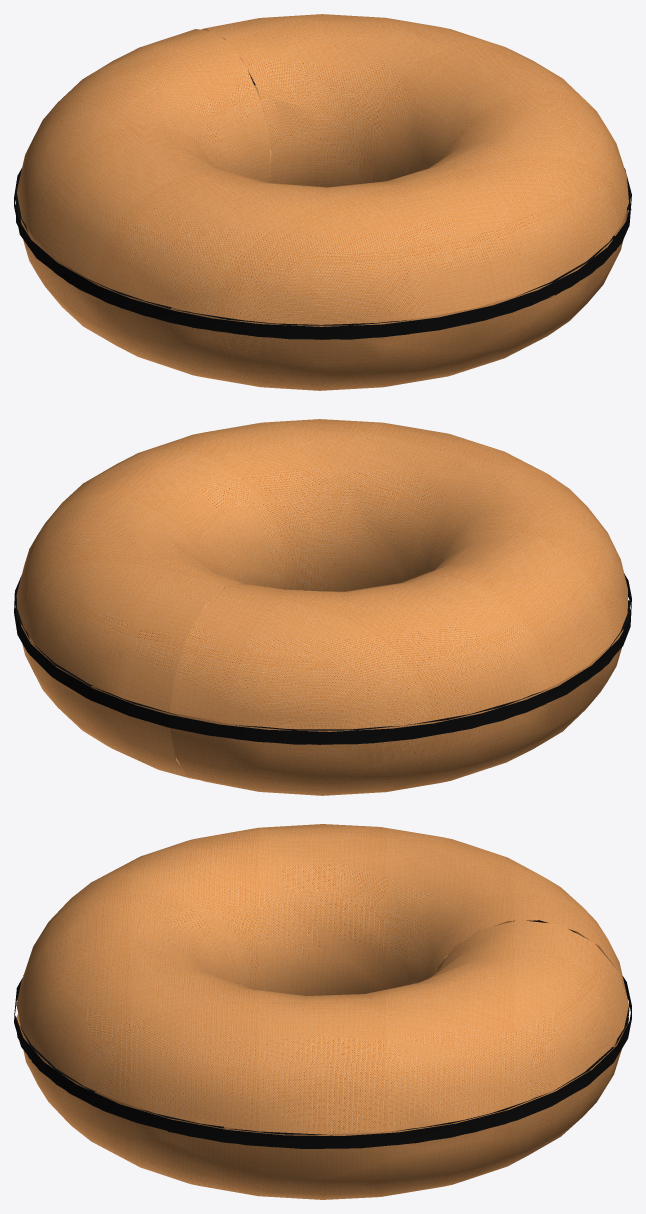
Rendered from TTQ1.obj.
3 renders of one model, top to bottom at view 1: azimuth 30°, elevation 25°; view 2: azimuth 150°, elevation 25°; view 3: azimuth 270°, elevation 25°, orthographic.
Visible parts, largest first — view 1: Cut_Extrud; view 2: Cut_Extrud; view 3: Cut_Extrud.
Part boxes in pixels (x1,y1,x2,y2): Cut_Extrud: (14, 14, 631, 390); Cut_Extrud: (14, 419, 631, 795); Cut_Extrud: (14, 824, 631, 1199).
Size of the model in its own units: 12.07 by 4 by 12.09.
